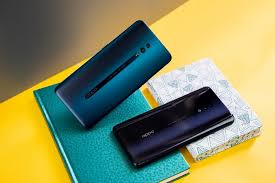oppo: (108, 87, 236, 169)
